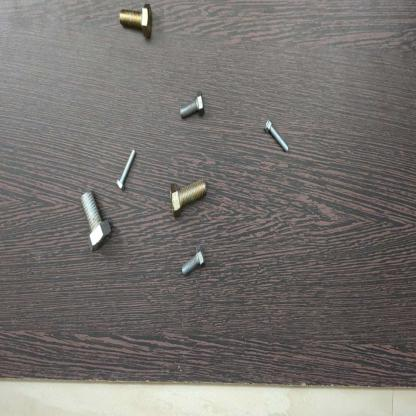Bolts: (166, 169, 210, 221), (80, 189, 114, 255), (113, 3, 158, 44), (262, 115, 292, 160), (177, 240, 206, 284), (116, 146, 138, 197), (177, 89, 208, 124)
